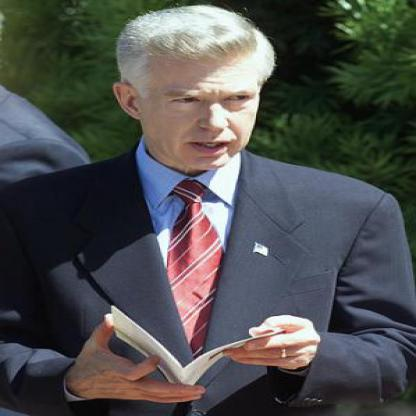face: (137, 13, 267, 172)
